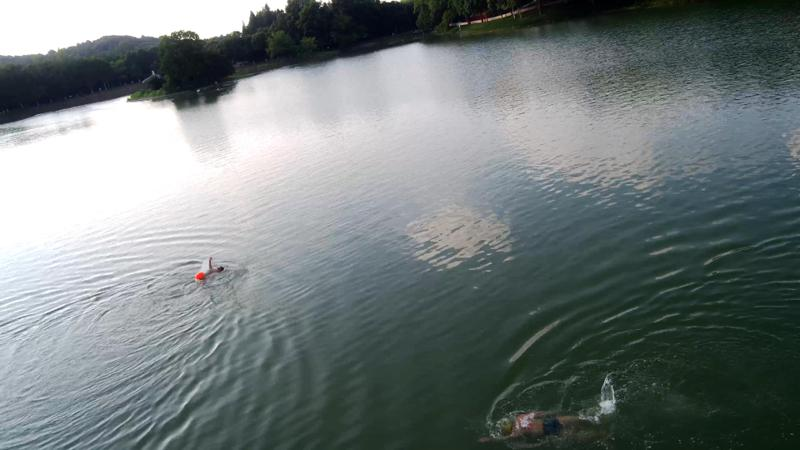swimmers: (475, 411, 592, 444)
